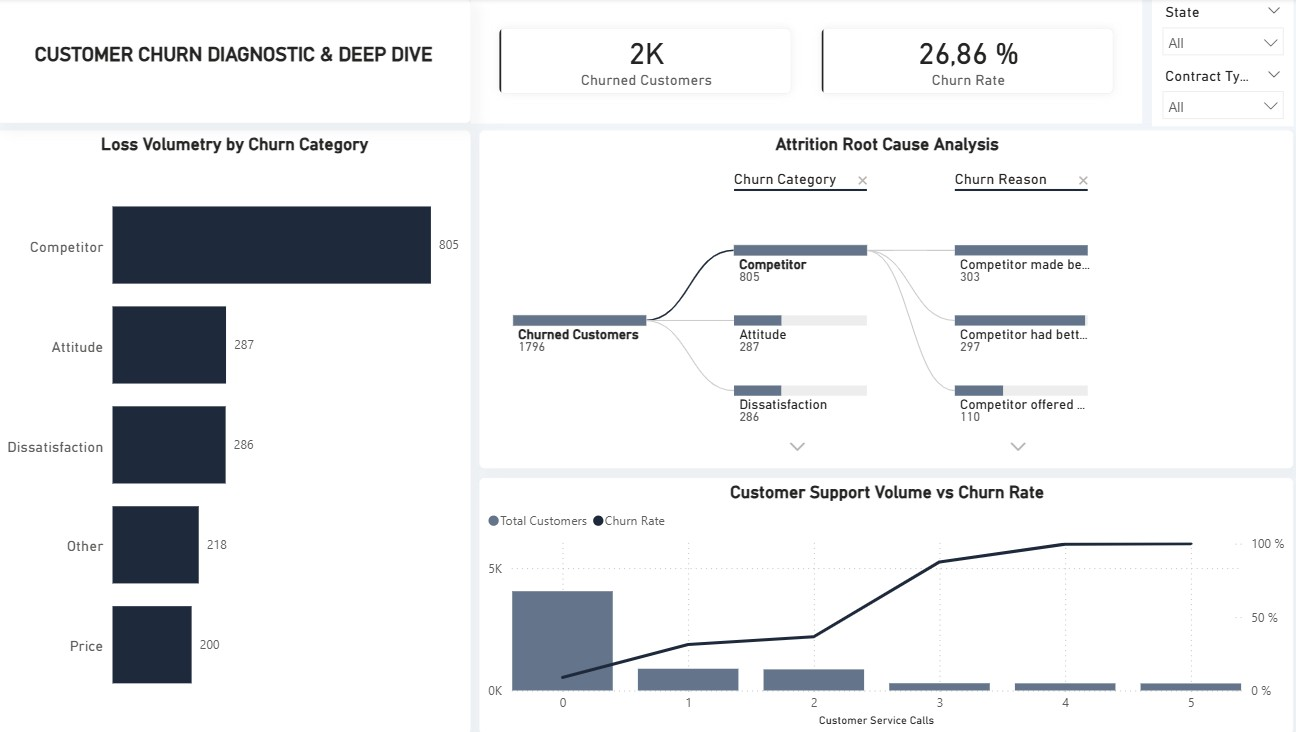

Layout of this report page (visuals, bound fields, positions):
{"tool":"powerbi","page":{"name":"Churn Deep Dive","canvas":[1280,720],"ordinal":1},"visuals":[{"type":"cardVisual","fields":{"Data":["_Measures.Churned Customers","_Measures.Churn Rate"]},"box":[462.9,1.4,657.1,121.4],"z":0},{"type":"clusteredBarChart","title":"Loss Volumetry by Churn Category","fields":{"Category":["Dim_Churn.Churn Category"],"Y":["_Measures.Churned Customers"]},"box":[0,129.6,463.5,590.6],"z":1000},{"type":"decompositionTreeVisual","title":"Attrition Root Cause Analysis","fields":{"ExplainBy":["Dim_Churn.Churn Category","Dim_Churn.Churn Reason"],"Analyze":["_Measures.Churned Customers"]},"box":[472,129.6,796.1,330.2],"z":2000},{"type":"lineStackedColumnComboChart","title":"Customer Support Volume vs Churn Rate","fields":{"Category":["Fact_Subscriptions.Customer Service Calls"],"Y":["_Measures.Total Customers"],"Y2":["_Measures.Churn Rate"]},"box":[472,469.6,796.1,250.7],"z":3000},{"type":"slicer","fields":{"Values":["Dim_Contract.Contract Type"]},"box":[1130,62.9,138.6,62.9],"z":4000},{"type":"slicer","fields":{"Values":["Dim_Customer.State"]},"box":[1130,0,138.6,62.9],"z":5000},{"type":"textbox","box":[0,1.2,463.5,121.1],"z":6000}]}

Visuals, with their boxes in screenshot pixels (x1, y1, x2, y2), scaled from the page's 1280x720 canvas onto the 1296x732 screenshot:
cardVisual - _Measures.Churned Customers x _Measures.Churn Rate: bbox(469, 1, 1134, 125)
"Loss Volumetry by Churn Category" clusteredBarChart: bbox(0, 132, 469, 731)
"Attrition Root Cause Analysis" decompositionTreeVisual: bbox(478, 132, 1284, 467)
"Customer Support Volume vs Churn Rate" lineStackedColumnComboChart: bbox(478, 477, 1284, 731)
slicer - Dim_Contract.Contract Type: bbox(1144, 64, 1284, 128)
slicer - Dim_Customer.State: bbox(1144, 0, 1284, 64)
textbox: bbox(0, 1, 469, 124)
